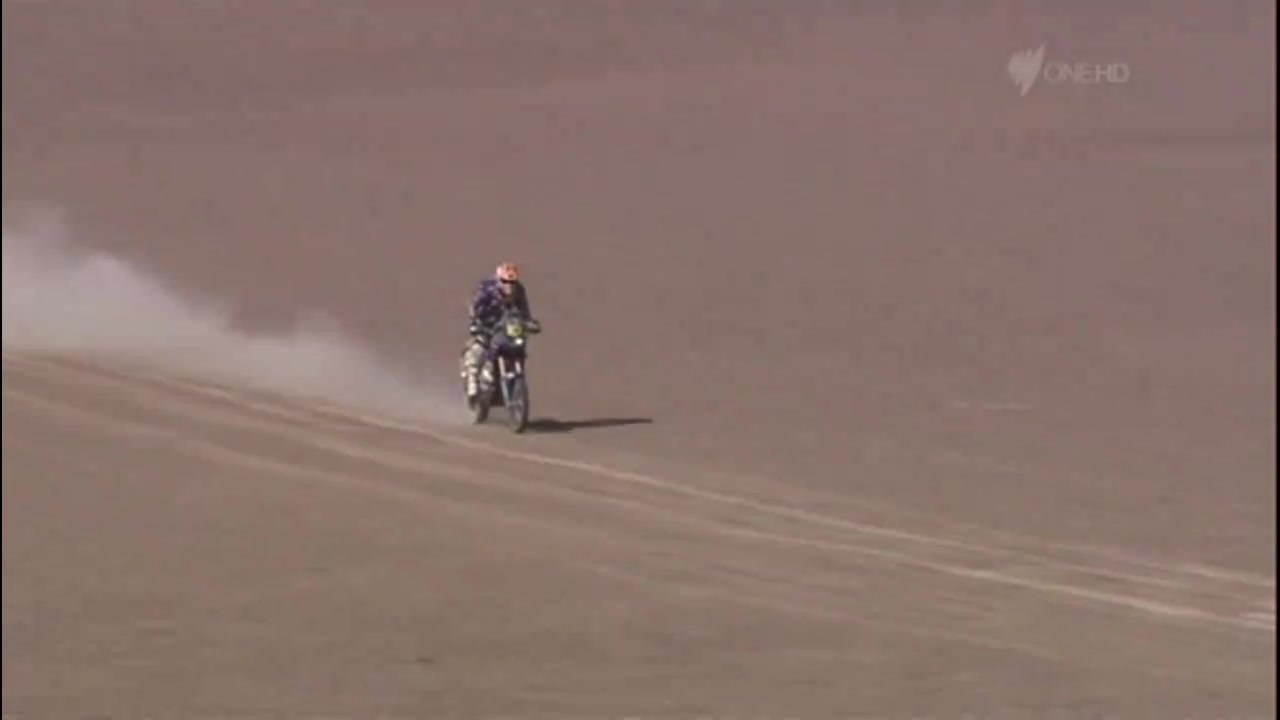motorbike: (451, 314, 535, 429)
